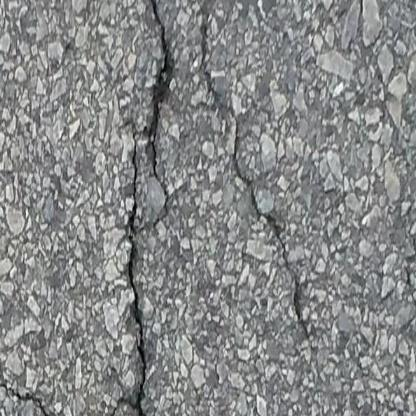Cracks: (198, 10, 316, 345), (102, 0, 179, 416), (0, 366, 95, 416)
